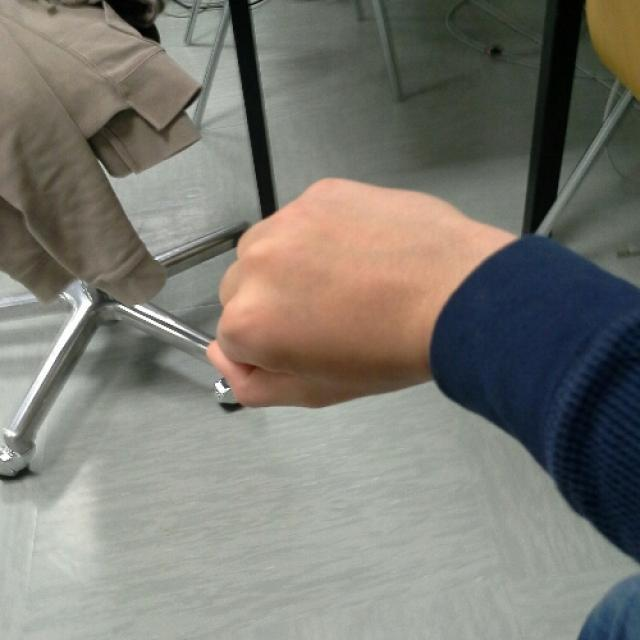fist: (207, 176, 454, 412)
